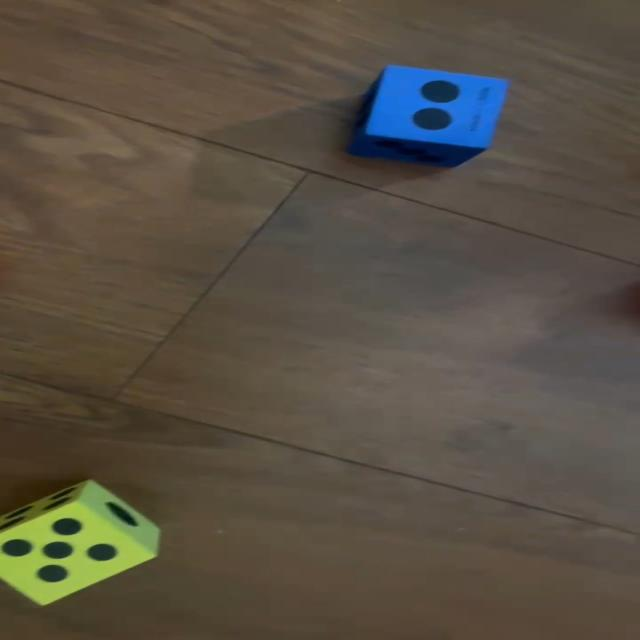blue_block: (353, 66, 507, 170)
